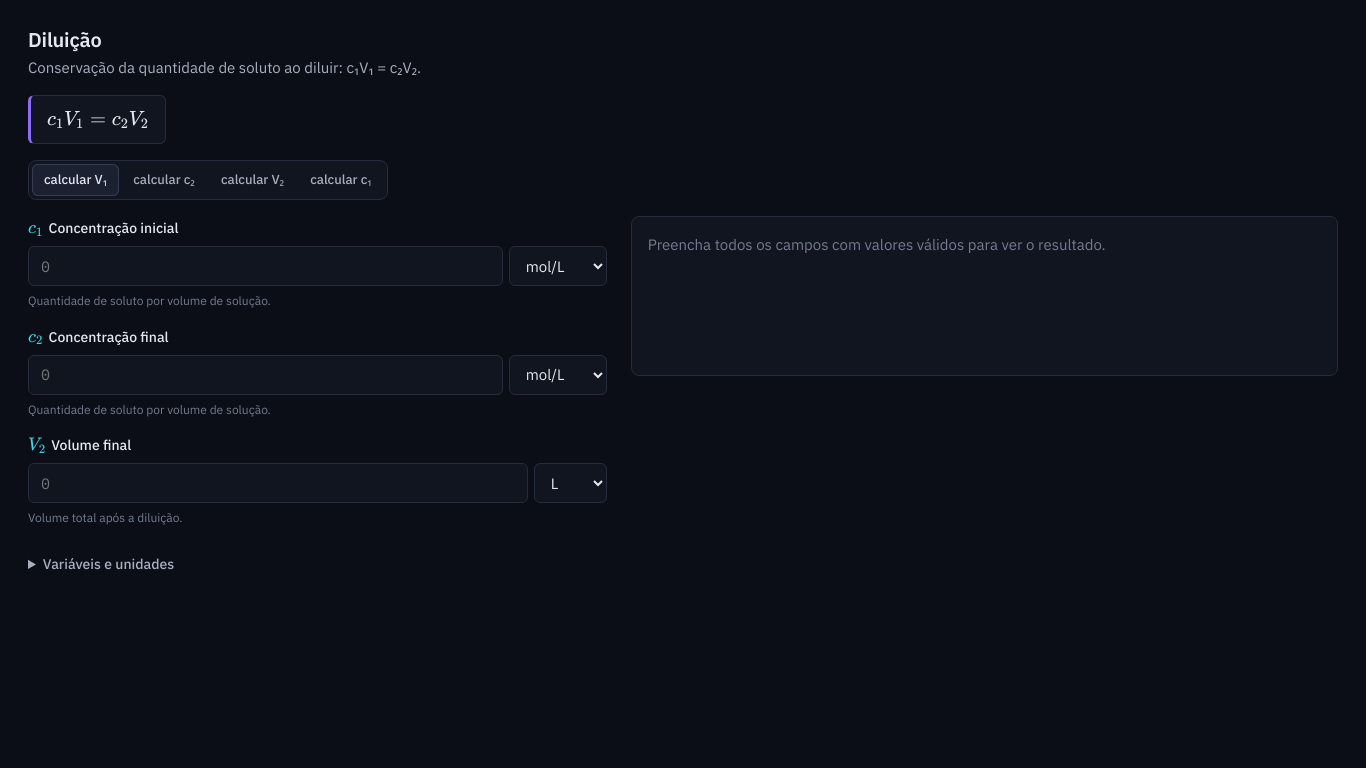
Test case: calculadora (componente) › diluição que concentraria a solução mostra erro explicativo
This screenshot has width=1366, height=768.
Click the button "calcular c₂".
click(164, 180)  # box top-left (121, 164), bottom-right (207, 196)
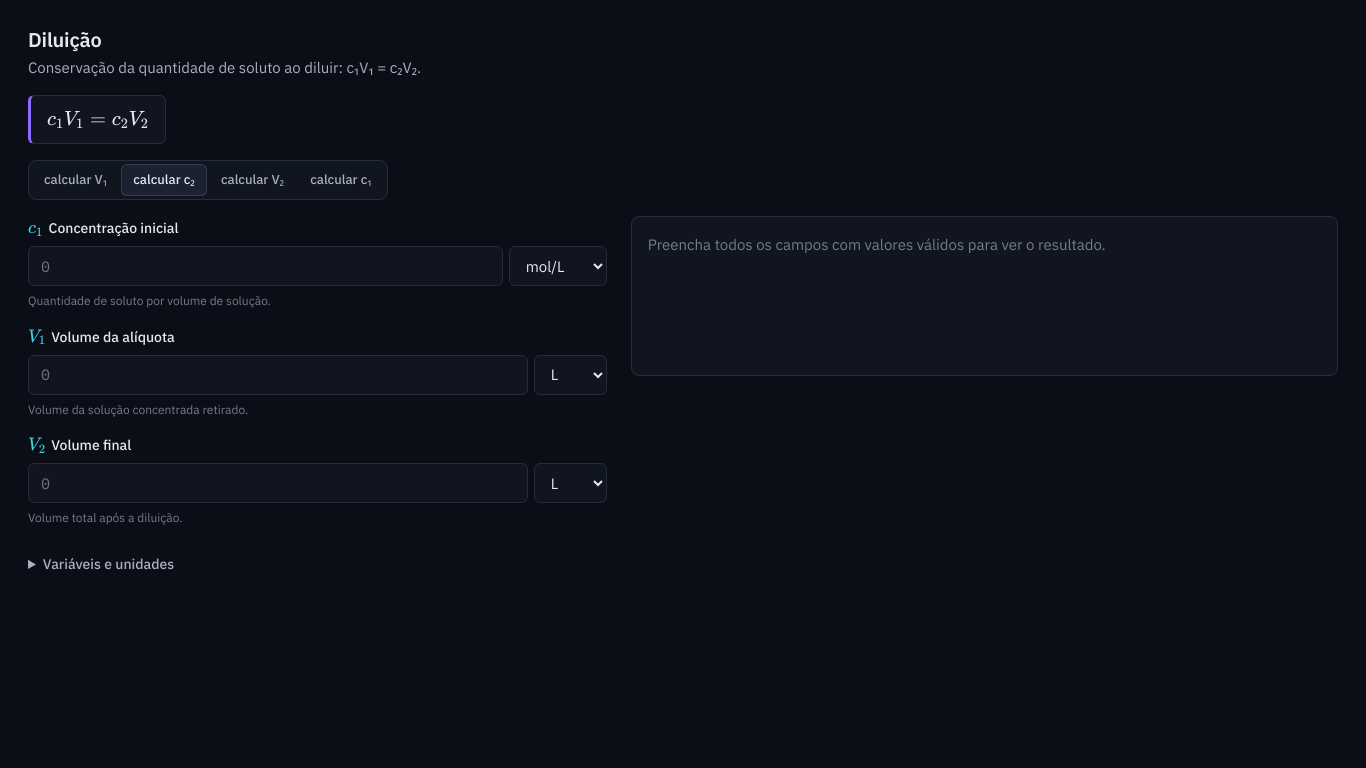
Type "0.1" into the field named "c₁ Concentração inicial".
click(265, 266); type("0.1")  # box top-left (28, 246), bottom-right (503, 286)
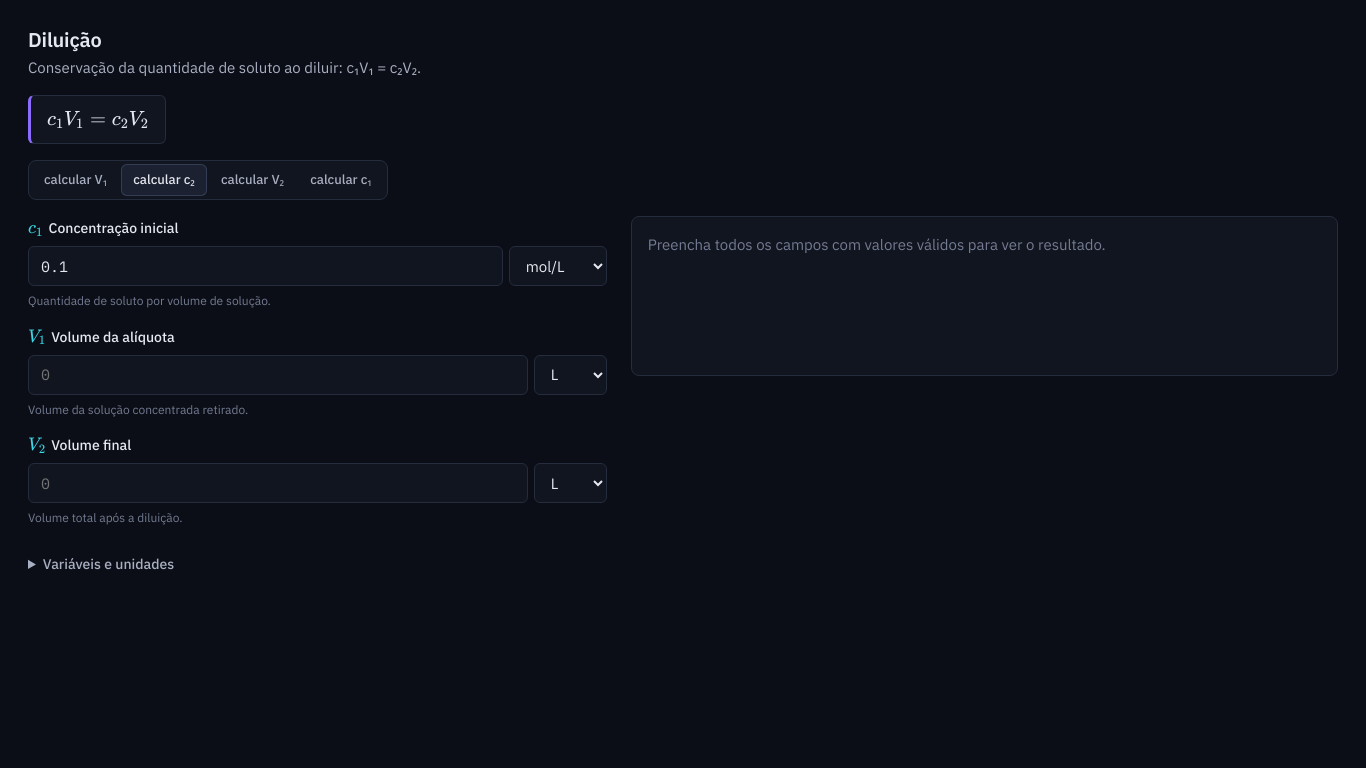
Type "100" into the field named "V₁ Volume da alíquota".
click(278, 375); type("100")  # box top-left (28, 355), bottom-right (528, 395)
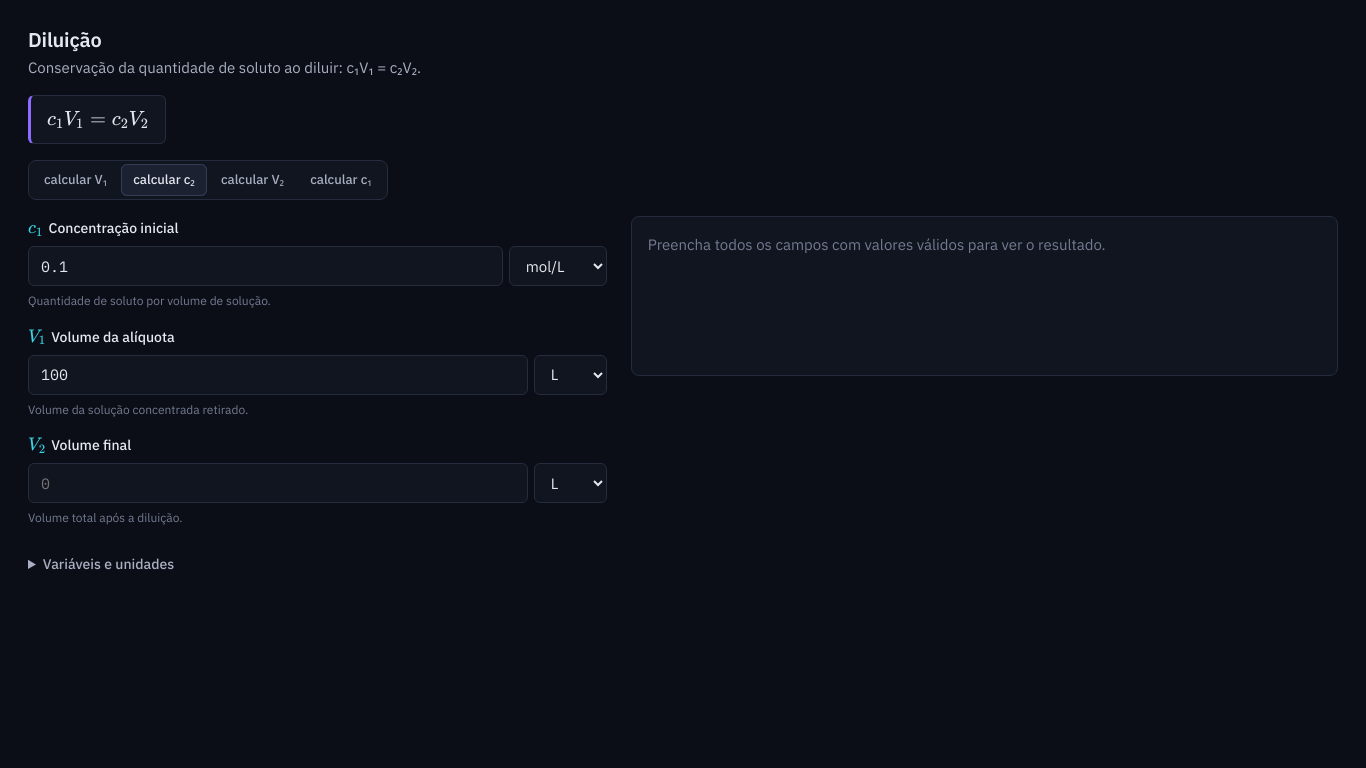
Type "10" into the field named "V₂ Volume final".
click(278, 483); type("10")  # box top-left (28, 463), bottom-right (528, 503)
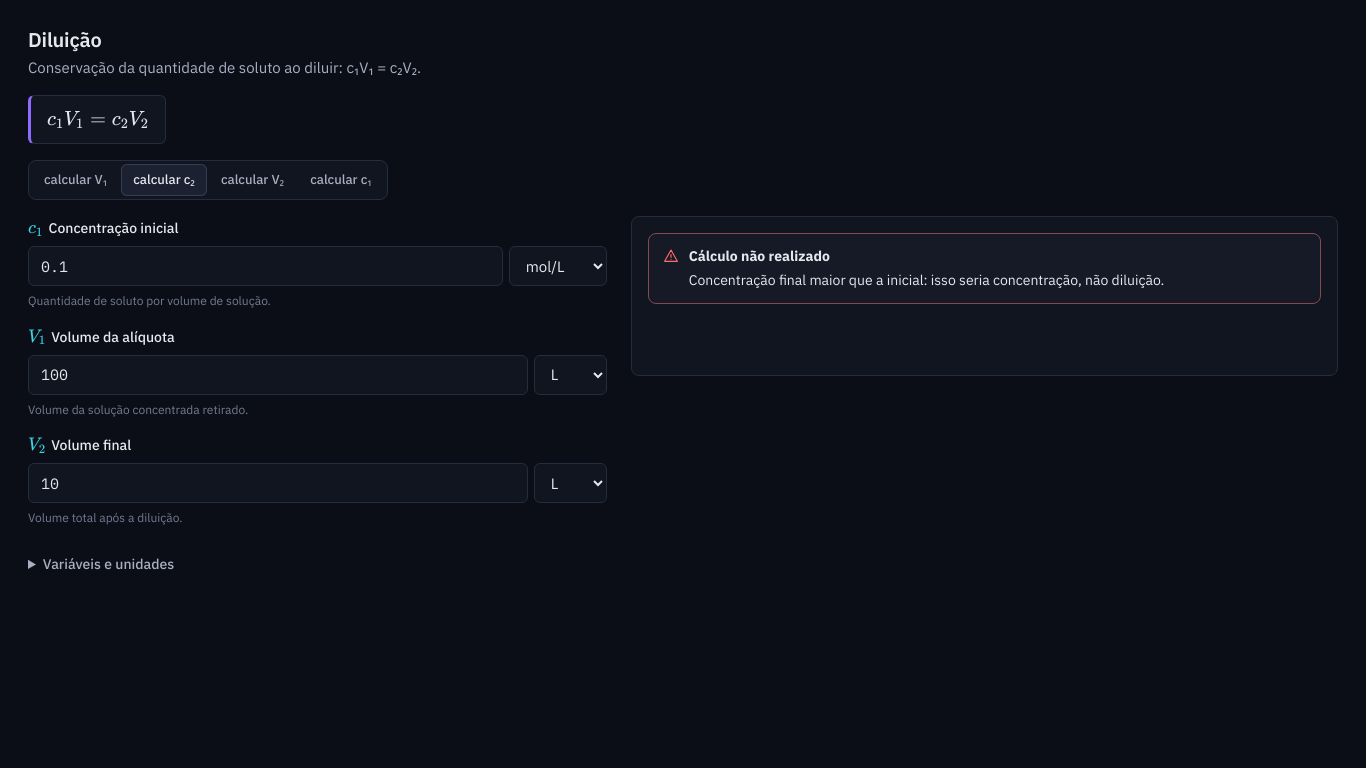
Expected: the text "não diluição" is shown, top-left (689, 271), bottom-right (1164, 289)
